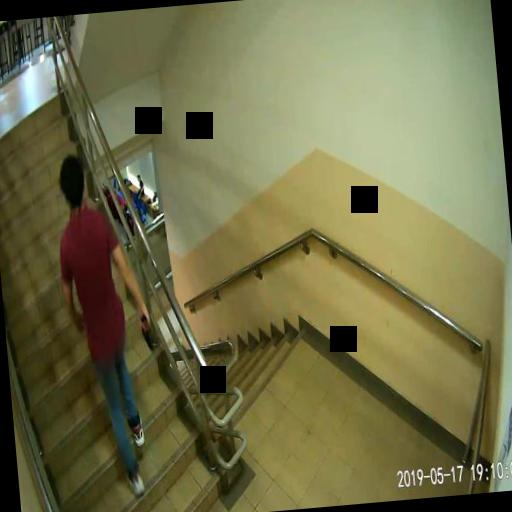Handgun: (136, 312, 152, 352)
